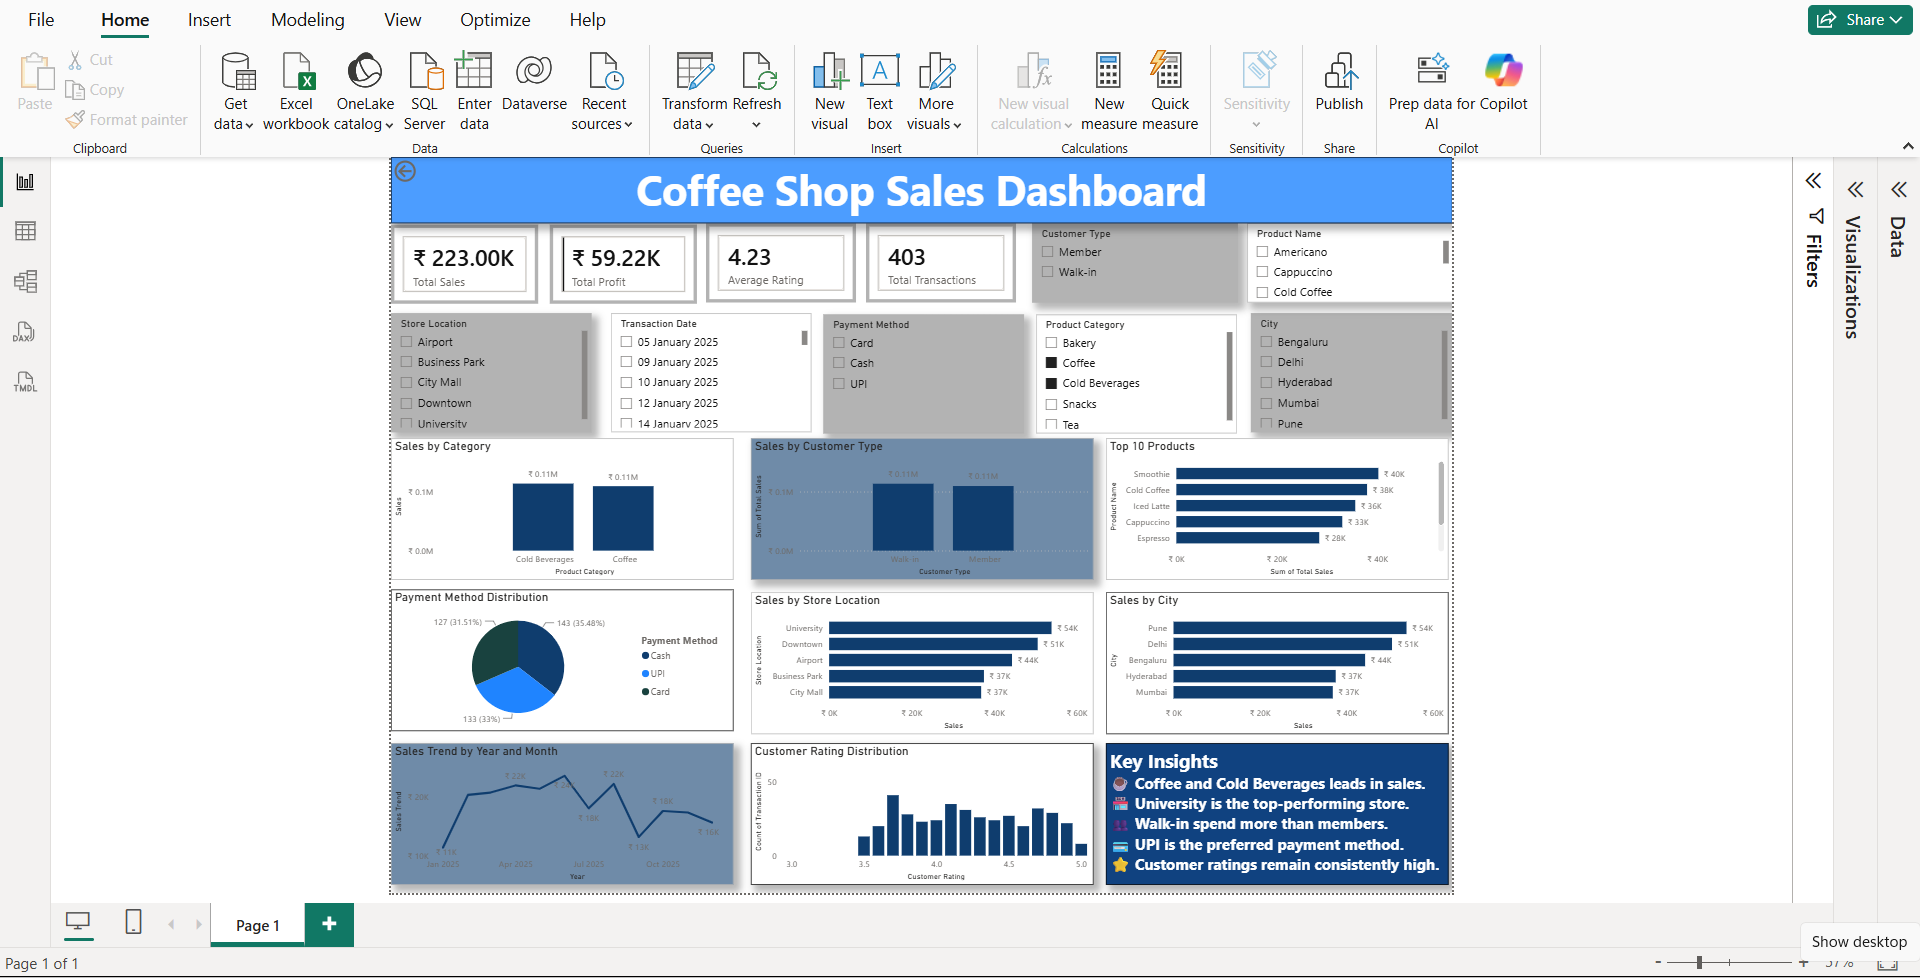

The dashboard page shown, as its layout file describes it:
{"tool":"powerbi","page":{"name":"Page 1","canvas":[1500,1040],"ordinal":0},"visuals":[{"type":"cardVisual","fields":{"Data":["Sum(CoffeeShopSales.Total Sales)"]},"box":[0,96,208,112],"z":0},{"type":"cardVisual","fields":{"Data":["Sum(CoffeeShopSales.Profit)"]},"box":[224,96,208,112],"z":1000},{"type":"cardVisual","fields":{"Data":["Avg(CoffeeShopSales.Customer Rating)"]},"box":[445,93.4,212.3,112.1],"z":2000},{"type":"cardVisual","fields":{"Data":["CoffeeShopSales.Total Transactions"]},"box":[670.9,93.4,212.3,112.1],"z":3000},{"type":"slicer","fields":{"Values":["CoffeeShopSales.City"]},"box":[1216,220.8,283.6,168.1],"z":4000},{"type":"slicer","fields":{"Values":["CoffeeShopSales.Store Location"]},"box":[0,220.8,283,168.1],"z":5000},{"type":"slicer","fields":{"Values":["CoffeeShopSales.Product Category"]},"box":[912,222.5,283.6,168.1],"z":6000},{"type":"slicer","fields":{"Values":["CoffeeShopSales.Customer Type"]},"box":[905.2,93.4,290.4,112.1],"z":7000},{"type":"slicer","fields":{"Values":["CoffeeShopSales.Payment Method"]},"box":[611.4,222.5,283,168.1],"z":8000},{"type":"slicer","fields":{"Values":["CoffeeShopSales.Product Name"]},"box":[1209.2,93.4,290.4,112.1],"z":9000},{"type":"slicer","fields":{"Values":["CoffeeShopSales.Transaction Date"]},"box":[310.8,220.8,283,168.1],"z":10000},{"type":"lineChart","fields":{"Y":["Sum(CoffeeShopSales.Total Sales)"],"Category":["CoffeeShopSales.Transaction Date.Variation.Date Hierarchy.Year","CoffeeShopSales.Transaction Date.Variation.Date Hierarchy.Month"]},"box":[0,829.2,484,200],"z":11000},{"type":"clusteredBarChart","fields":{"Y":["Sum(CoffeeShopSales.Total Sales)"],"Category":["CoffeeShopSales.City"]},"box":[1010.5,614.8,484,200.4],"z":12000},{"type":"clusteredBarChart","fields":{"Category":["CoffeeShopSales.Store Location"],"Y":["Sum(CoffeeShopSales.Total Sales)"]},"box":[507.8,614.8,484,200.4],"z":13000},{"type":"clusteredColumnChart","title":"Sales by Category","fields":{"Category":["CoffeeShopSales.Product Category"],"Y":["Sum(CoffeeShopSales.Total Sales)"]},"box":[0,397.4,484,200],"z":14000},{"type":"clusteredBarChart","title":"Top 10 Products","fields":{"Y":["Sum(CoffeeShopSales.Total Sales)"],"Category":["CoffeeShopSales.Product Name"]},"box":[1010.5,397.4,484,200],"z":15000},{"type":"pieChart","title":"Payment Method Distribution","fields":{"Category":["CoffeeShopSales.Payment Method"],"Y":["CountNonNull(CoffeeShopSales.Transaction ID)"]},"box":[0,611.4,484,200],"z":16000},{"type":"columnChart","title":" Sales by Customer Type","fields":{"Category":["CoffeeShopSales.Customer Type"],"Y":["Sum(CoffeeShopSales.Total Sales)"]},"box":[507.8,397.4,484,200],"z":17000},{"type":"textbox","box":[0,0,1499.7,93.4],"z":18000},{"type":"columnChart","title":"Customer Rating Distribution","fields":{"Category":["CoffeeShopSales.Customer Rating"],"Y":["CountNonNull(CoffeeShopSales.Transaction ID)"]},"box":[508,829,484,200],"z":19000},{"type":"textbox","box":[1011,829,484,200],"z":20000},{"type":"actionButton","box":[0,0,100,40],"z":20001}]}

Visuals, with their boxes on the page's 1500x1040 design canvas (x1, y1, x2, y2). These are canvas units, not pixel positions in the 1920x978 screenshot, which may show the page scaled, cropped or inside an application window:
cardVisual - Sum(CoffeeShopSales.Total Sales): [0,96,208,208]
cardVisual - Sum(CoffeeShopSales.Profit): [224,96,432,208]
cardVisual - Avg(CoffeeShopSales.Customer Rating): [445,93,657,206]
cardVisual - CoffeeShopSales.Total Transactions: [671,93,883,206]
slicer - CoffeeShopSales.City: [1216,221,1500,389]
slicer - CoffeeShopSales.Store Location: [0,221,283,389]
slicer - CoffeeShopSales.Product Category: [912,222,1196,391]
slicer - CoffeeShopSales.Customer Type: [905,93,1196,206]
slicer - CoffeeShopSales.Payment Method: [611,222,894,391]
slicer - CoffeeShopSales.Product Name: [1209,93,1500,206]
slicer - CoffeeShopSales.Transaction Date: [311,221,594,389]
lineChart - Sum(CoffeeShopSales.Total Sales) x CoffeeShopSales.Transaction Date.Variation.Date Hierarchy.Year: [0,829,484,1029]
clusteredBarChart - Sum(CoffeeShopSales.Total Sales) x CoffeeShopSales.City: [1010,615,1494,815]
clusteredBarChart - CoffeeShopSales.Store Location x Sum(CoffeeShopSales.Total Sales): [508,615,992,815]
"Sales by Category" clusteredColumnChart: [0,397,484,597]
"Top 10 Products" clusteredBarChart: [1010,397,1494,597]
"Payment Method Distribution" pieChart: [0,611,484,811]
" Sales by Customer Type" columnChart: [508,397,992,597]
textbox: [0,0,1500,93]
"Customer Rating Distribution" columnChart: [508,829,992,1029]
textbox: [1011,829,1495,1029]
actionButton: [0,0,100,40]
